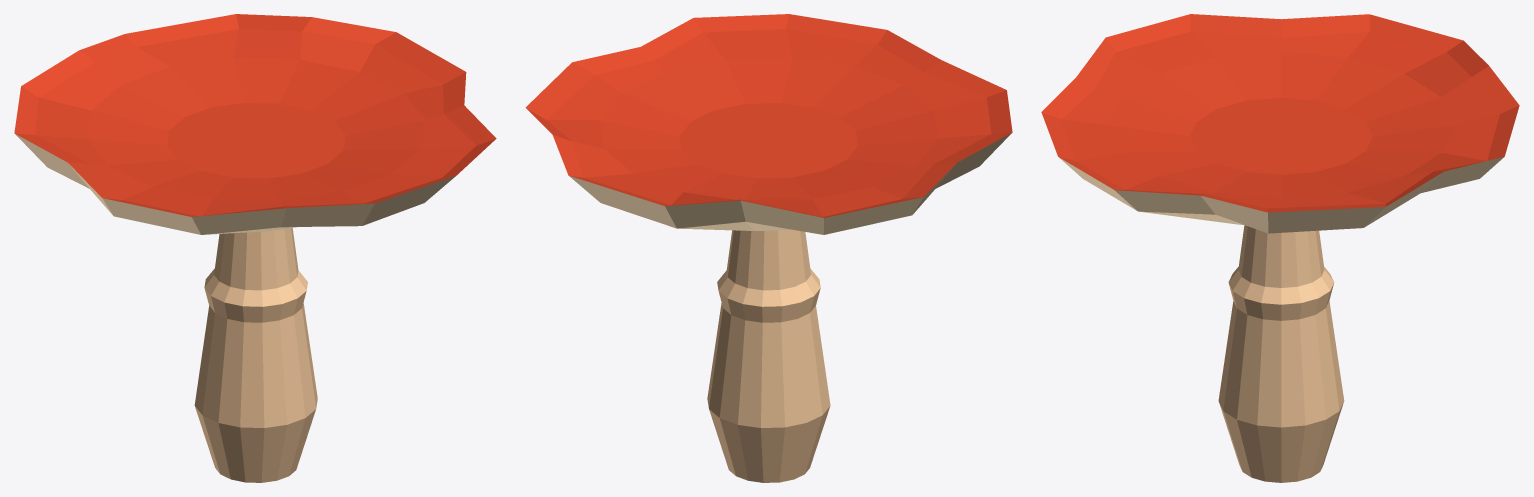
File: Mushroom.fbx
The picture shows the model from 3 angles, left to right: view 1: azimuth 30°, elevation 25°; view 2: azimuth 150°, elevation 25°; view 3: azimuth 270°, elevation 25°; orthographic projection.
Parts seen in each view (by area): view 1: Mushroom; view 2: Mushroom; view 3: Mushroom.
Boxes of the visible parts, x1,y1,x2,y2 form: Mushroom: (14,14,496,482); Mushroom: (525,14,1012,482); Mushroom: (1041,14,1519,482).
Bounding box in the file's own units: 890 × 757 × 905.
